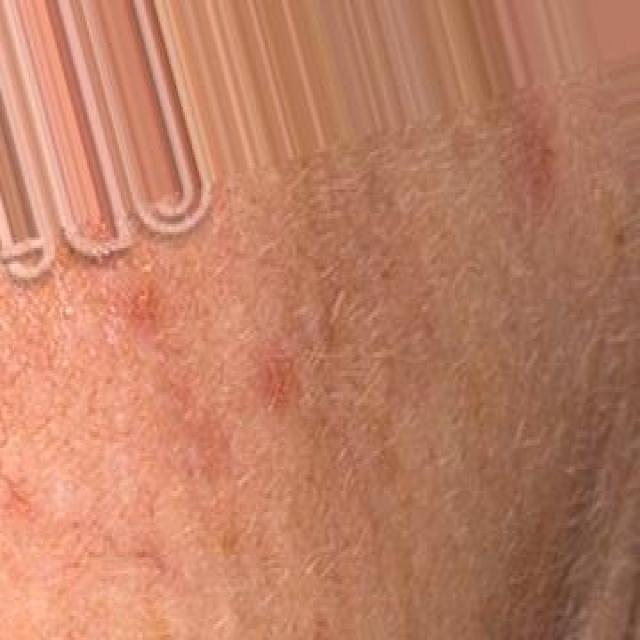Rosacea: (91, 266, 305, 526)
